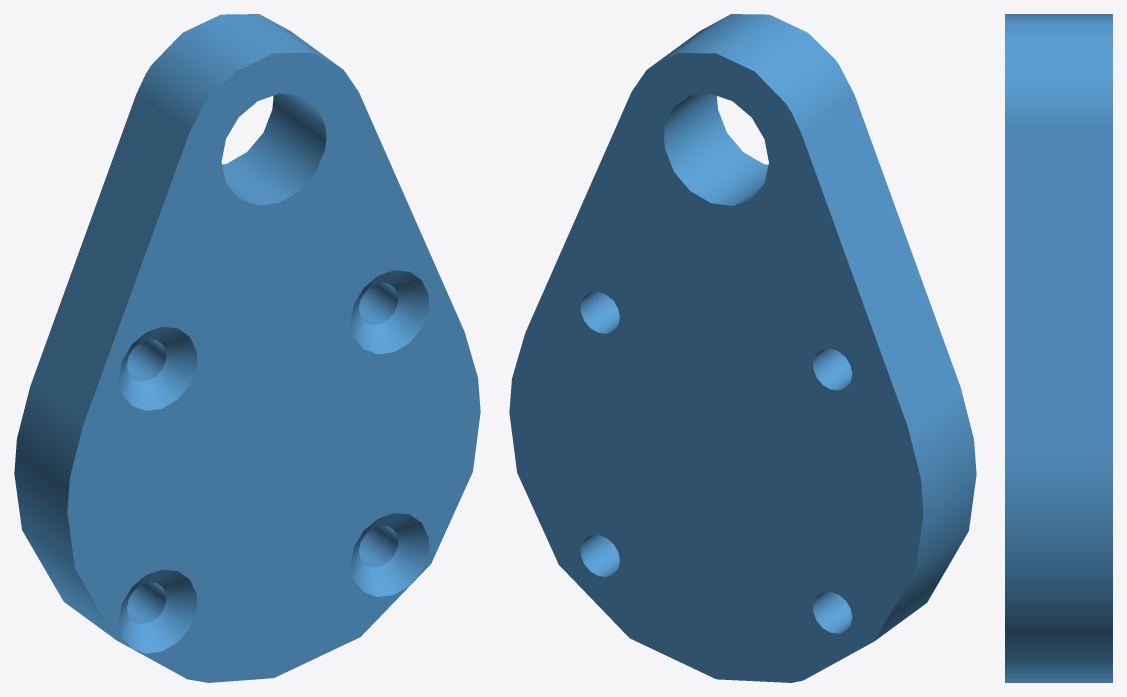
File: vacuum-mount.obj
3 renders of one model, left to right at view 1: azimuth 30°, elevation 25°; view 2: azimuth 150°, elevation 25°; view 3: azimuth 270°, elevation 25°, orthographic.
Parts seen in each view (by area): view 1: Part_1; view 2: Part_1; view 3: Part_1.
Part boxes in pixels (x1,y1,x2,y2): Part_1: (14,14,480,682); Part_1: (509,14,976,682); Part_1: (1005,14,1112,682).
Bounding box in the file's own units: 0.063 × 0.091 × 0.014.
